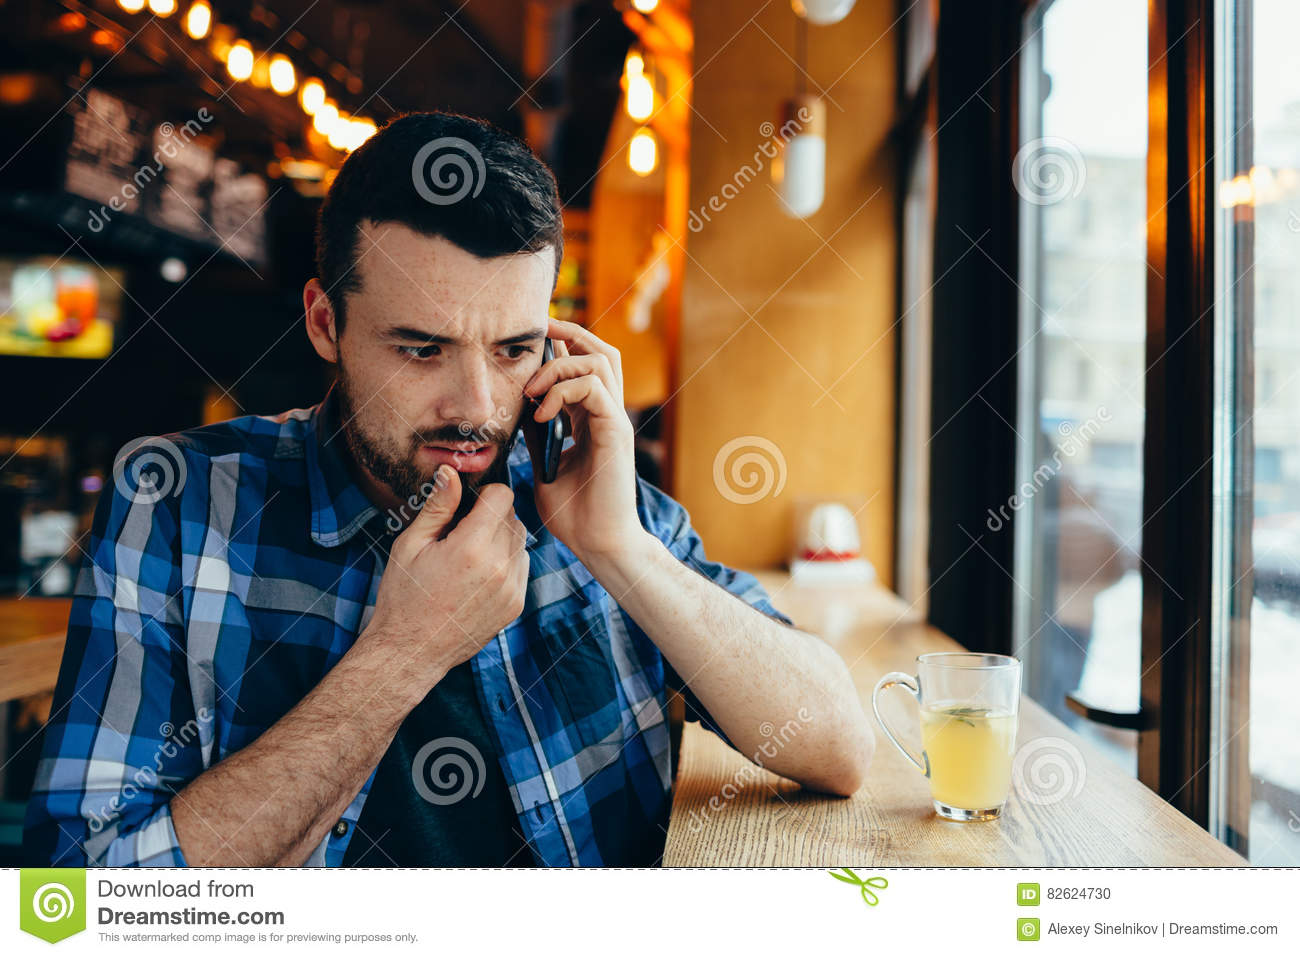phone: (524, 333, 573, 489)
talk: (364, 305, 639, 556)
